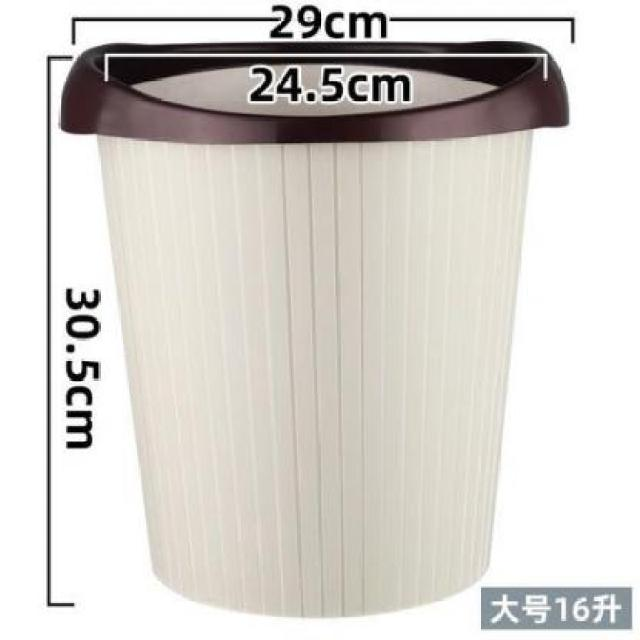dustbin: (54, 34, 576, 623)
